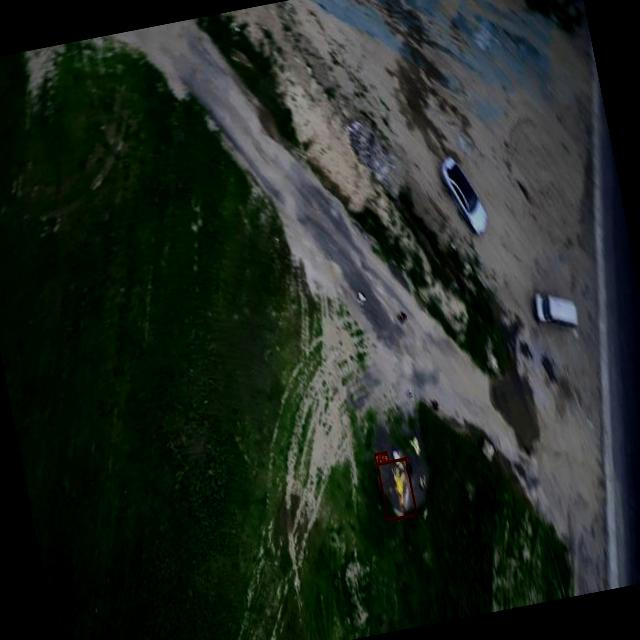fire: (376, 456, 417, 522)
